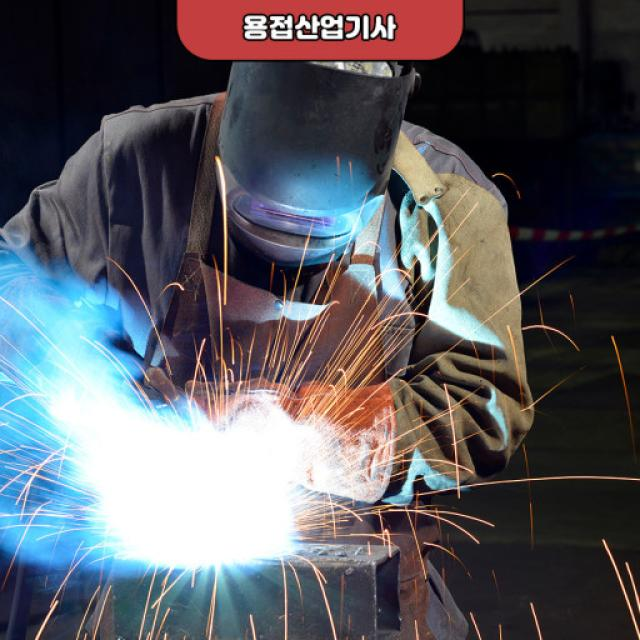welding: (104, 410, 305, 566)
